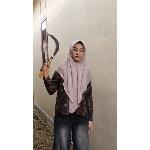Celurit: (40, 29, 62, 80)
